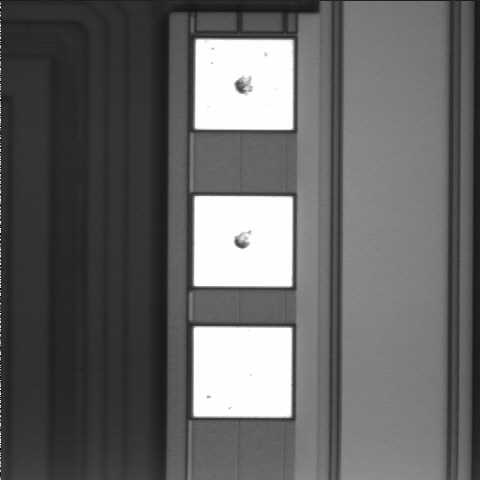pad: (195, 39, 293, 130), (194, 196, 293, 286), (194, 327, 292, 417)
